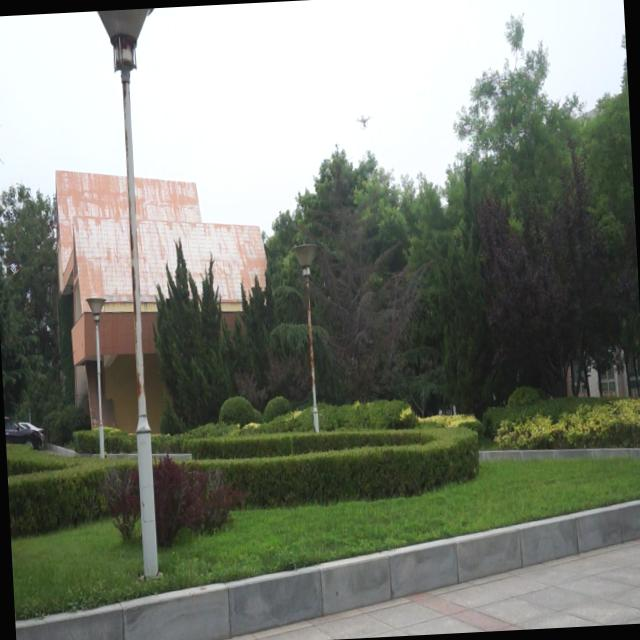drone: (353, 106, 376, 132)
